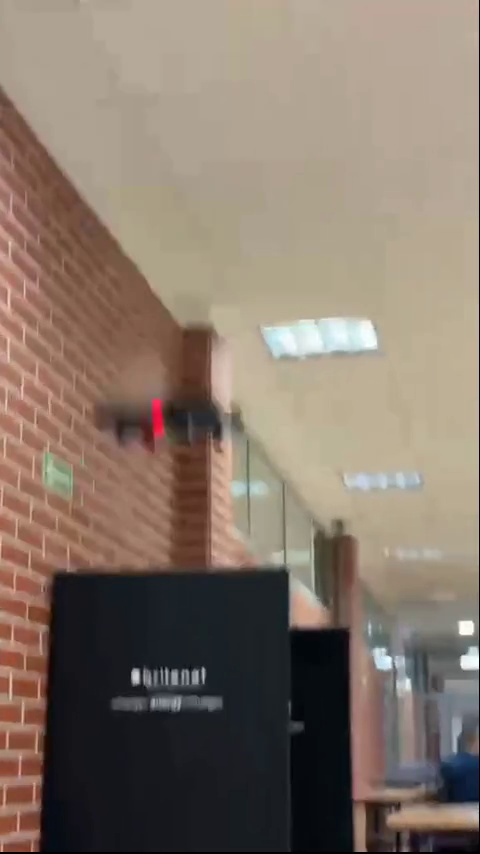drone: (96, 393, 244, 457)
